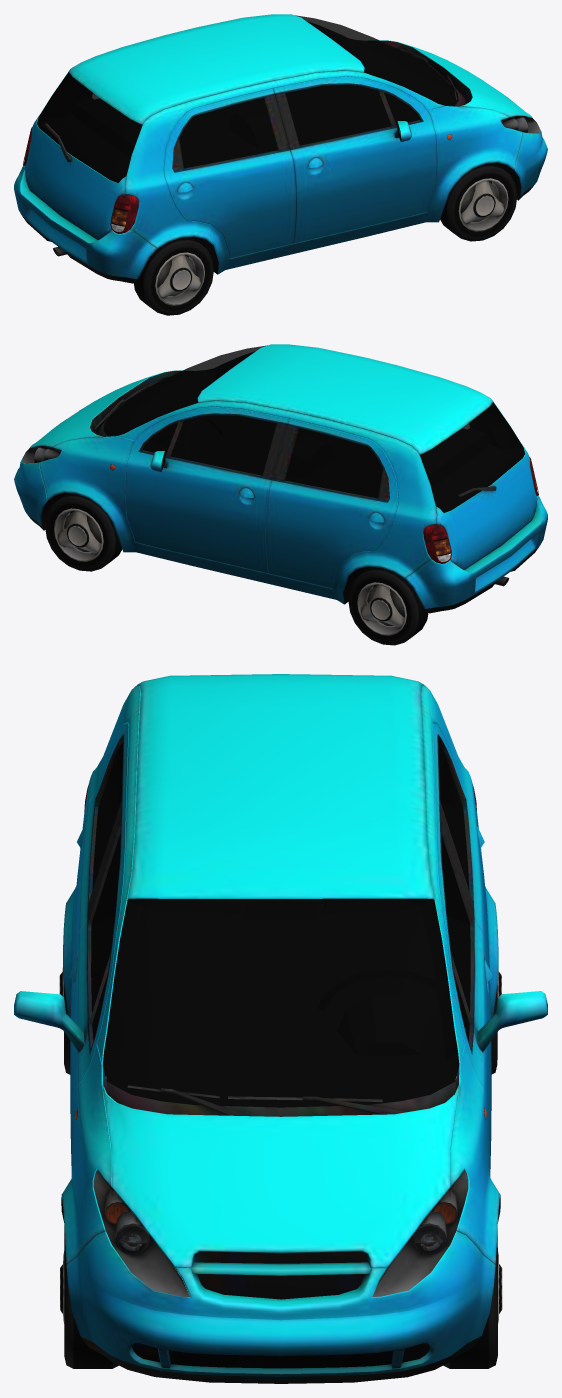
File: traffic_compact.glb
3 renders of one model, top to bottom at view 1: azimuth 30°, elevation 25°; view 2: azimuth 150°, elevation 25°; view 3: azimuth 270°, elevation 25°, orthographic. The views are drawn at different scales.
Parts seen in each view (by area): view 1: Compact Body_Body_0, Compact Body_Glass_0, Wheel_C002_Wheel_0, Wheel_C003_Wheel_0, Compact Body_Optics_0; view 2: Compact Body_Body_0, Compact Body_Glass_0, Wheel_C001_Wheel_0, Wheel_C_Wheel_0, Compact Body_Optics_0; view 3: Compact Body_Body_0, Compact Body_Glass_0, Compact Body_Optics_0, Wheel_C_Wheel_0, Wheel_C003_Wheel_0.
Part boxes in pixels (x1=…): Compact Body_Body_0: x1=14, y1=14, x2=547, y2=283; Compact Body_Glass_0: x1=37, y1=15, x2=540, y2=182; Wheel_C002_Wheel_0: x1=134, y1=237, x2=213, y2=315; Wheel_C003_Wheel_0: x1=440, y1=162, x2=517, y2=241; Compact Body_Optics_0: x1=23, y1=127, x2=452, y2=233; Compact Body_Body_0: x1=14, y1=344, x2=547, y2=613; Compact Body_Glass_0: x1=21, y1=345, x2=524, y2=512; Wheel_C001_Wheel_0: x1=348, y1=566, x2=428, y2=645; Wheel_C_Wheel_0: x1=45, y1=493, x2=122, y2=571; Compact Body_Optics_0: x1=110, y1=457, x2=538, y2=563; Compact Body_Body_0: x1=14, y1=674, x2=547, y2=1383; Compact Body_Glass_0: x1=91, y1=742, x2=470, y2=1296; Compact Body_Optics_0: x1=74, y1=784, x2=487, y2=1254; Wheel_C_Wheel_0: x1=443, y1=1231, x2=502, y2=1368; Wheel_C003_Wheel_0: x1=60, y1=1226, x2=118, y2=1368.
Size of the model in its own units: 3.26 by 1.32 by 1.61.
Materials: 4 (3 with a texture image).
